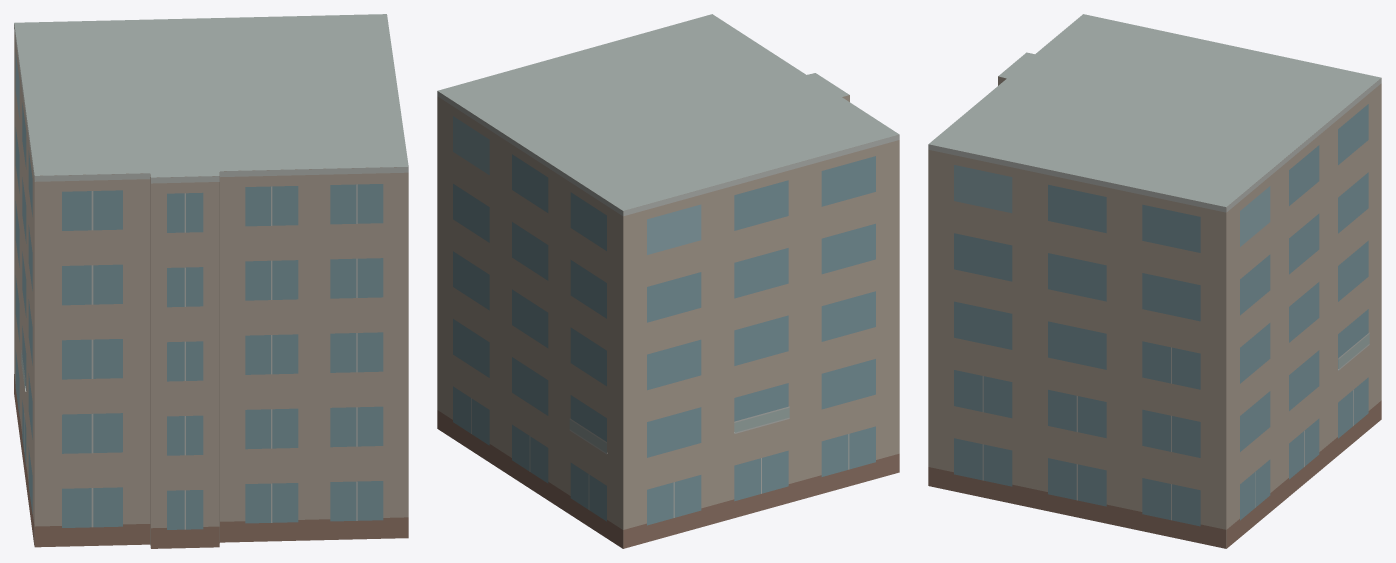
File: survey-upis-32823373.glb
3 views of the same model, side by side, from view 1: azimuth 30°, elevation 25°; view 2: azimuth 150°, elevation 25°; view 3: azimuth 270°, elevation 25° (orthographic). The views are drawn at different scales.
Visible parts, largest first — view 1: survey-upis-32823373.tmp; view 2: survey-upis-32823373.tmp; view 3: survey-upis-32823373.tmp.
Boxes of the visible parts, left/top/right/bottom form: survey-upis-32823373.tmp: left=14, top=14, right=408, bottom=548; survey-upis-32823373.tmp: left=437, top=14, right=899, bottom=548; survey-upis-32823373.tmp: left=928, top=14, right=1381, bottom=548.
Size of the model in its own units: 18.5 by 15.25 by 18.34.
